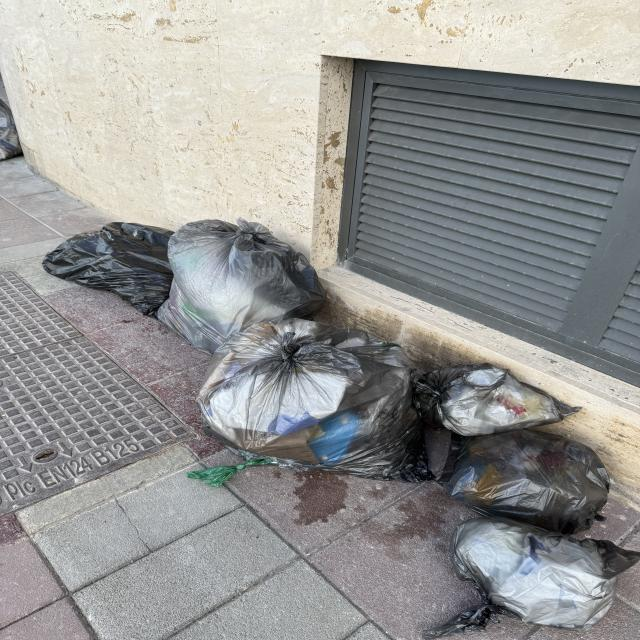Mixed Waste -Black Bags-: (43, 218, 640, 638)
Others Waste: (185, 458, 273, 487)
